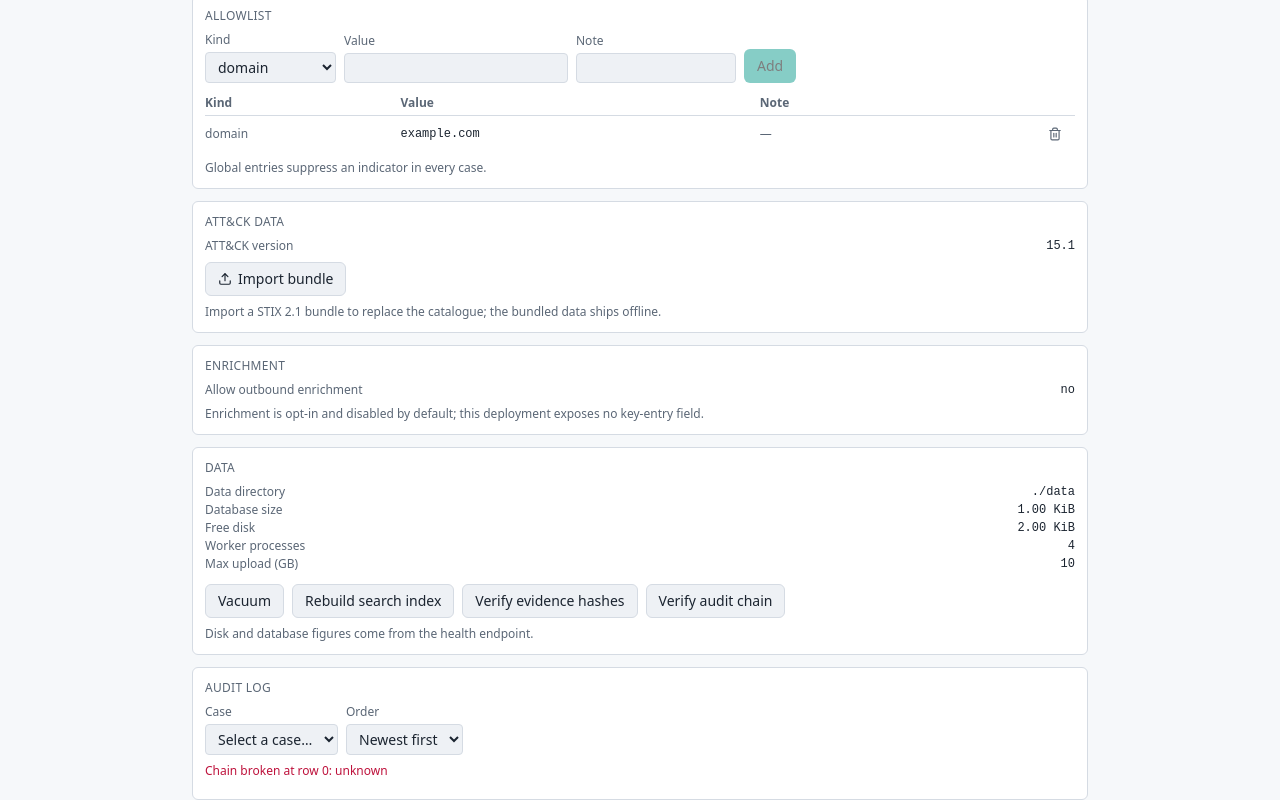
Test case: SettingsPage › reports failed evidence verification
(page scrolled)
Click the button "Verify evidence hashes".
click(550, 601)  # box [462,584,638,618]
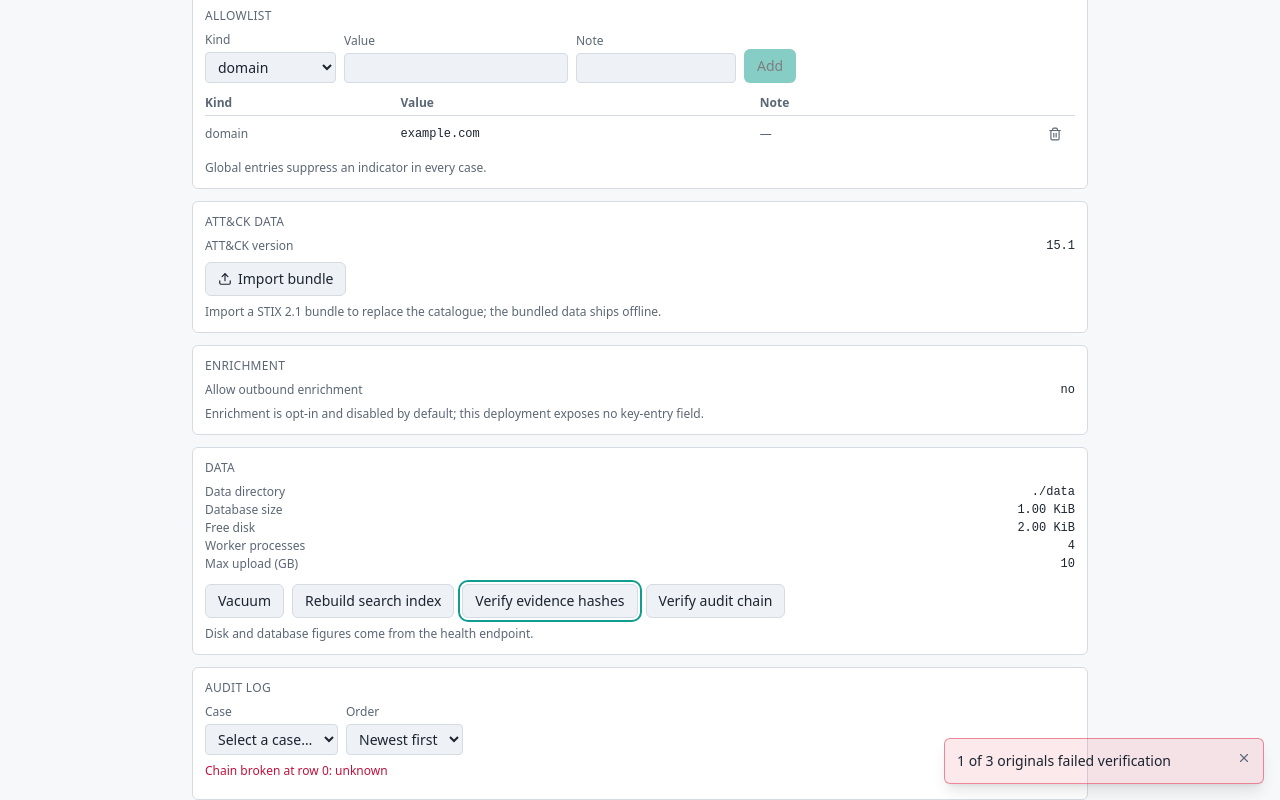
expect the message reads "1 of 3 originals failed verification": met, box [957,751,1171,770]
